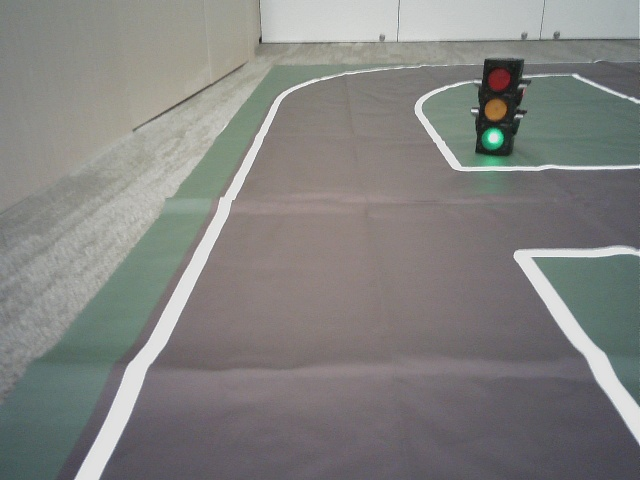green: (479, 67, 514, 153)
